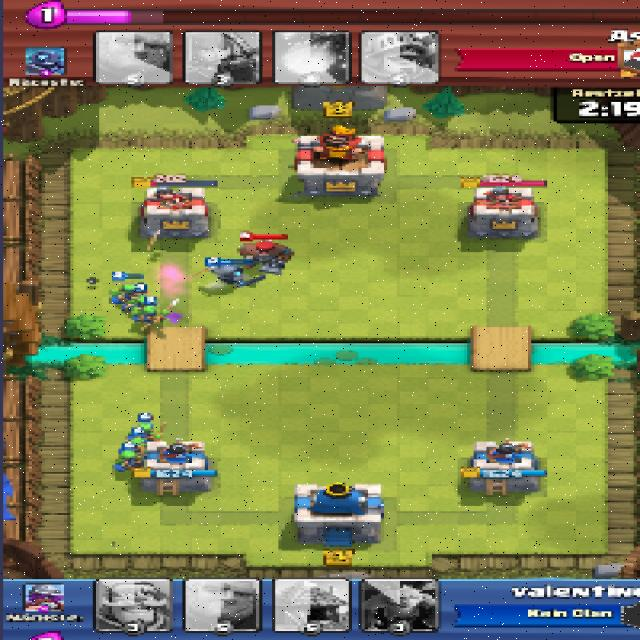Enemy-Hunter: (238, 243, 294, 273)
Player-MiniPEKKA: (204, 262, 264, 290)
Player-SpearGoblin: (132, 303, 168, 324), (114, 281, 141, 305), (111, 452, 142, 472), (129, 419, 158, 440), (124, 294, 150, 312), (118, 438, 145, 452)
